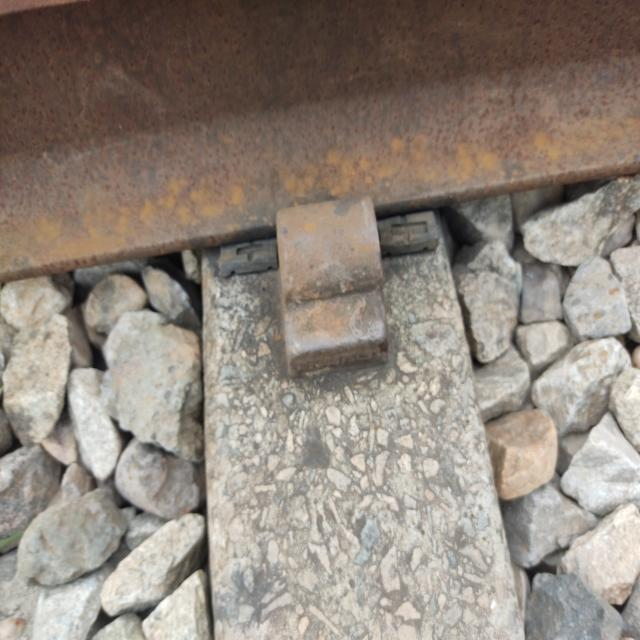Faults: (266, 196, 394, 374)
